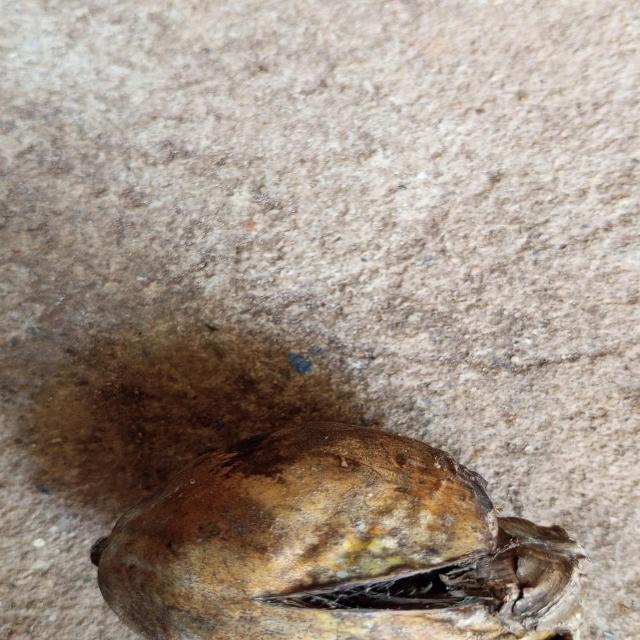damaged: (92, 422, 585, 640)
